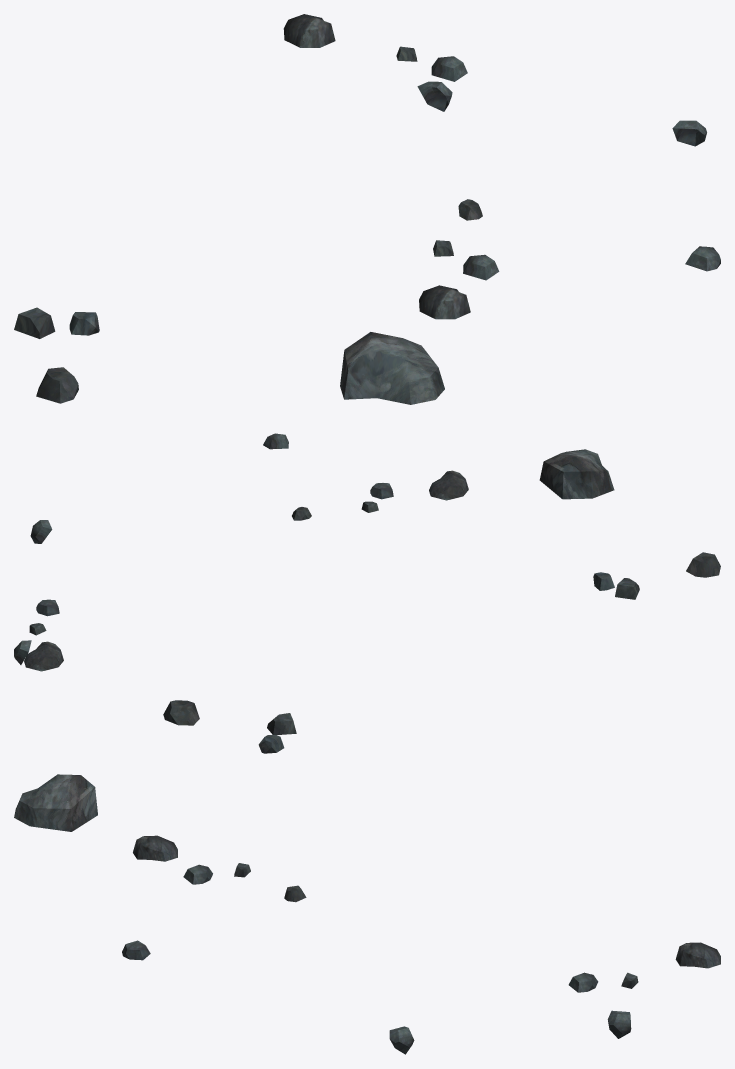
The model's file is menu_town_rubble_13.fbx.
The picture shows the model from 3 angles, top to bottom: view 1: azimuth 30°, elevation 25°; view 2: azimuth 150°, elevation 25°; view 3: azimuth 270°, elevation 25°; orthographic projection. The views are drawn at different scales.
Visible parts, largest first — view 1: Material_#238683587/cliffside; view 2: Material_#238683587/cliffside; view 3: Material_#238683587/cliffside.
Part boxes in pixels (x1,y1,x2,y2): Material_#238683587/cliffside: [14, 14, 720, 404]; Material_#238683587/cliffside: [14, 433, 720, 671]; Material_#238683587/cliffside: [14, 700, 720, 1054].
Size of the model in its own units: 11.6 by 1.83 by 11.22.
